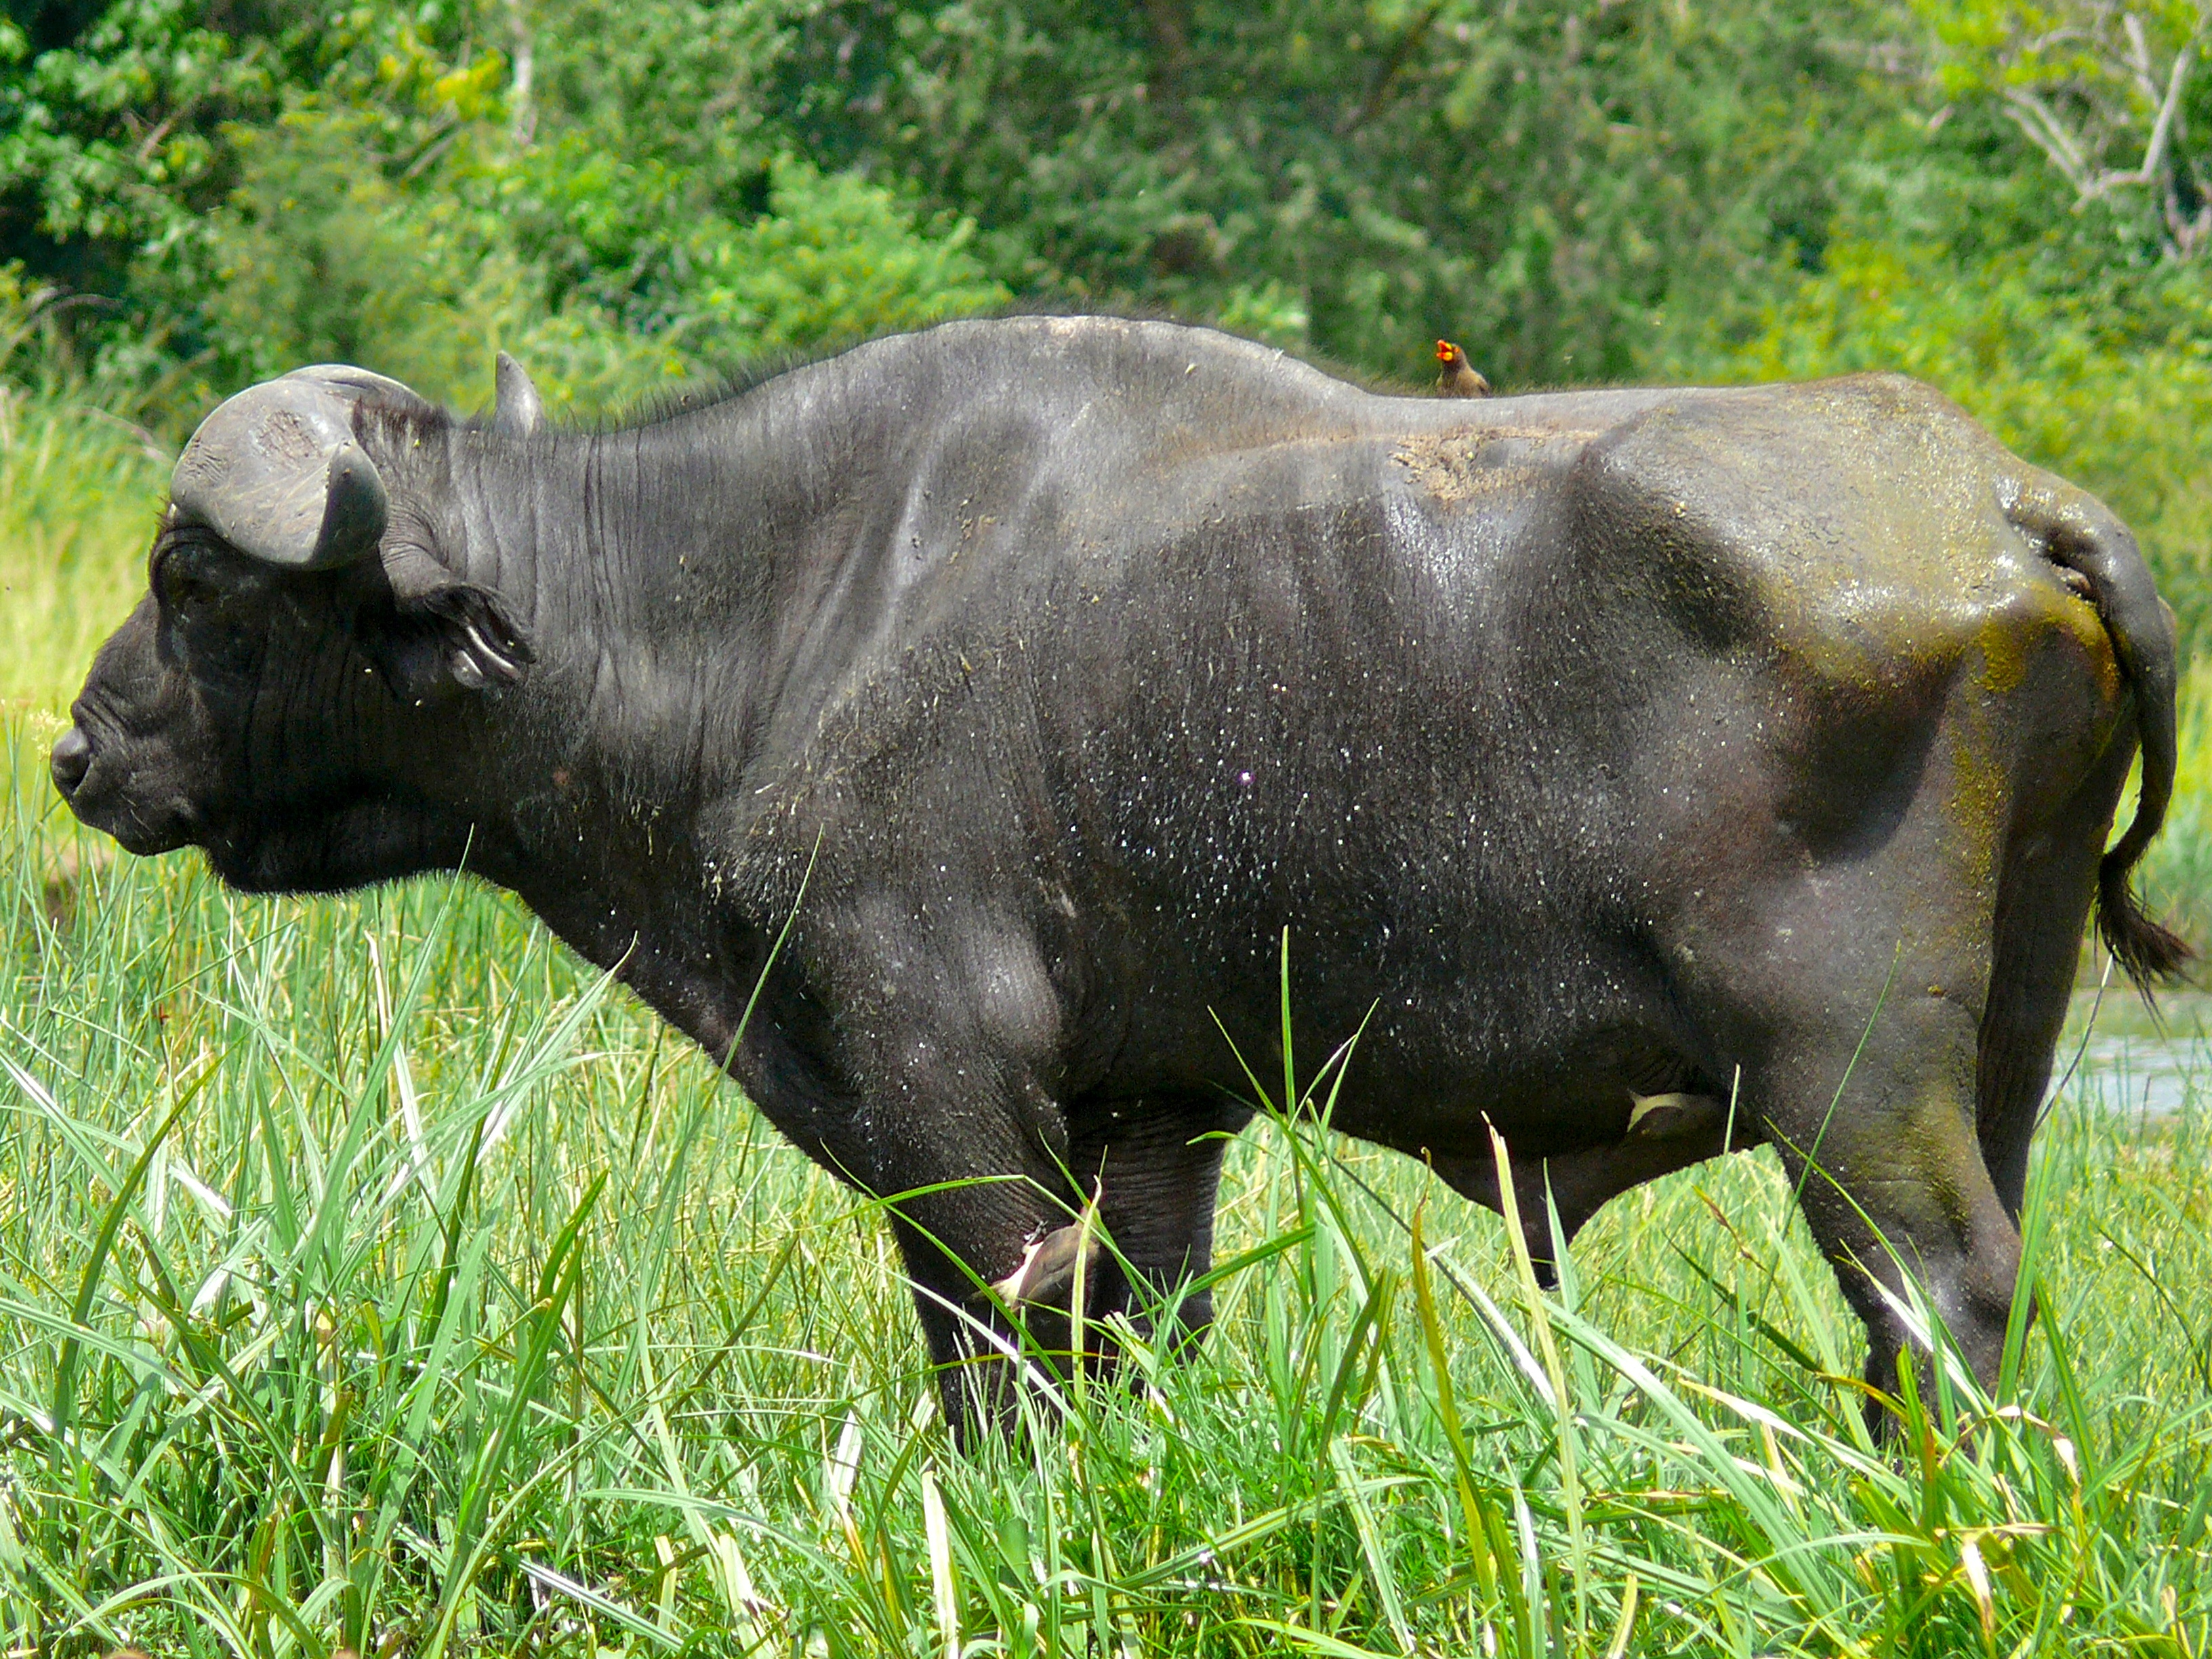buffalo: (45, 340, 2170, 1527)
